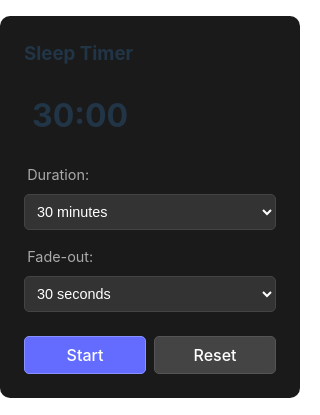
Timer Component › should update timer duration when changed
The width and height of the screenshot is (320, 415).
// Change the duration to 15 minutes
Step 1. Select "15 minutes" in the dropdown labelled "Duration:" → (150, 212), box [24,194,276,230]
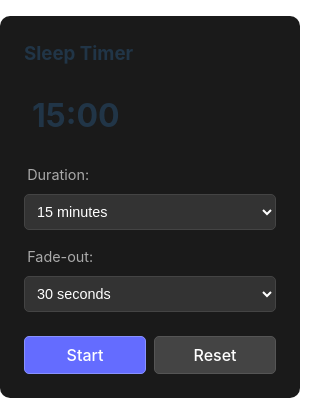
Check: the text "15:00" is shown, box [32,96,120,135]
